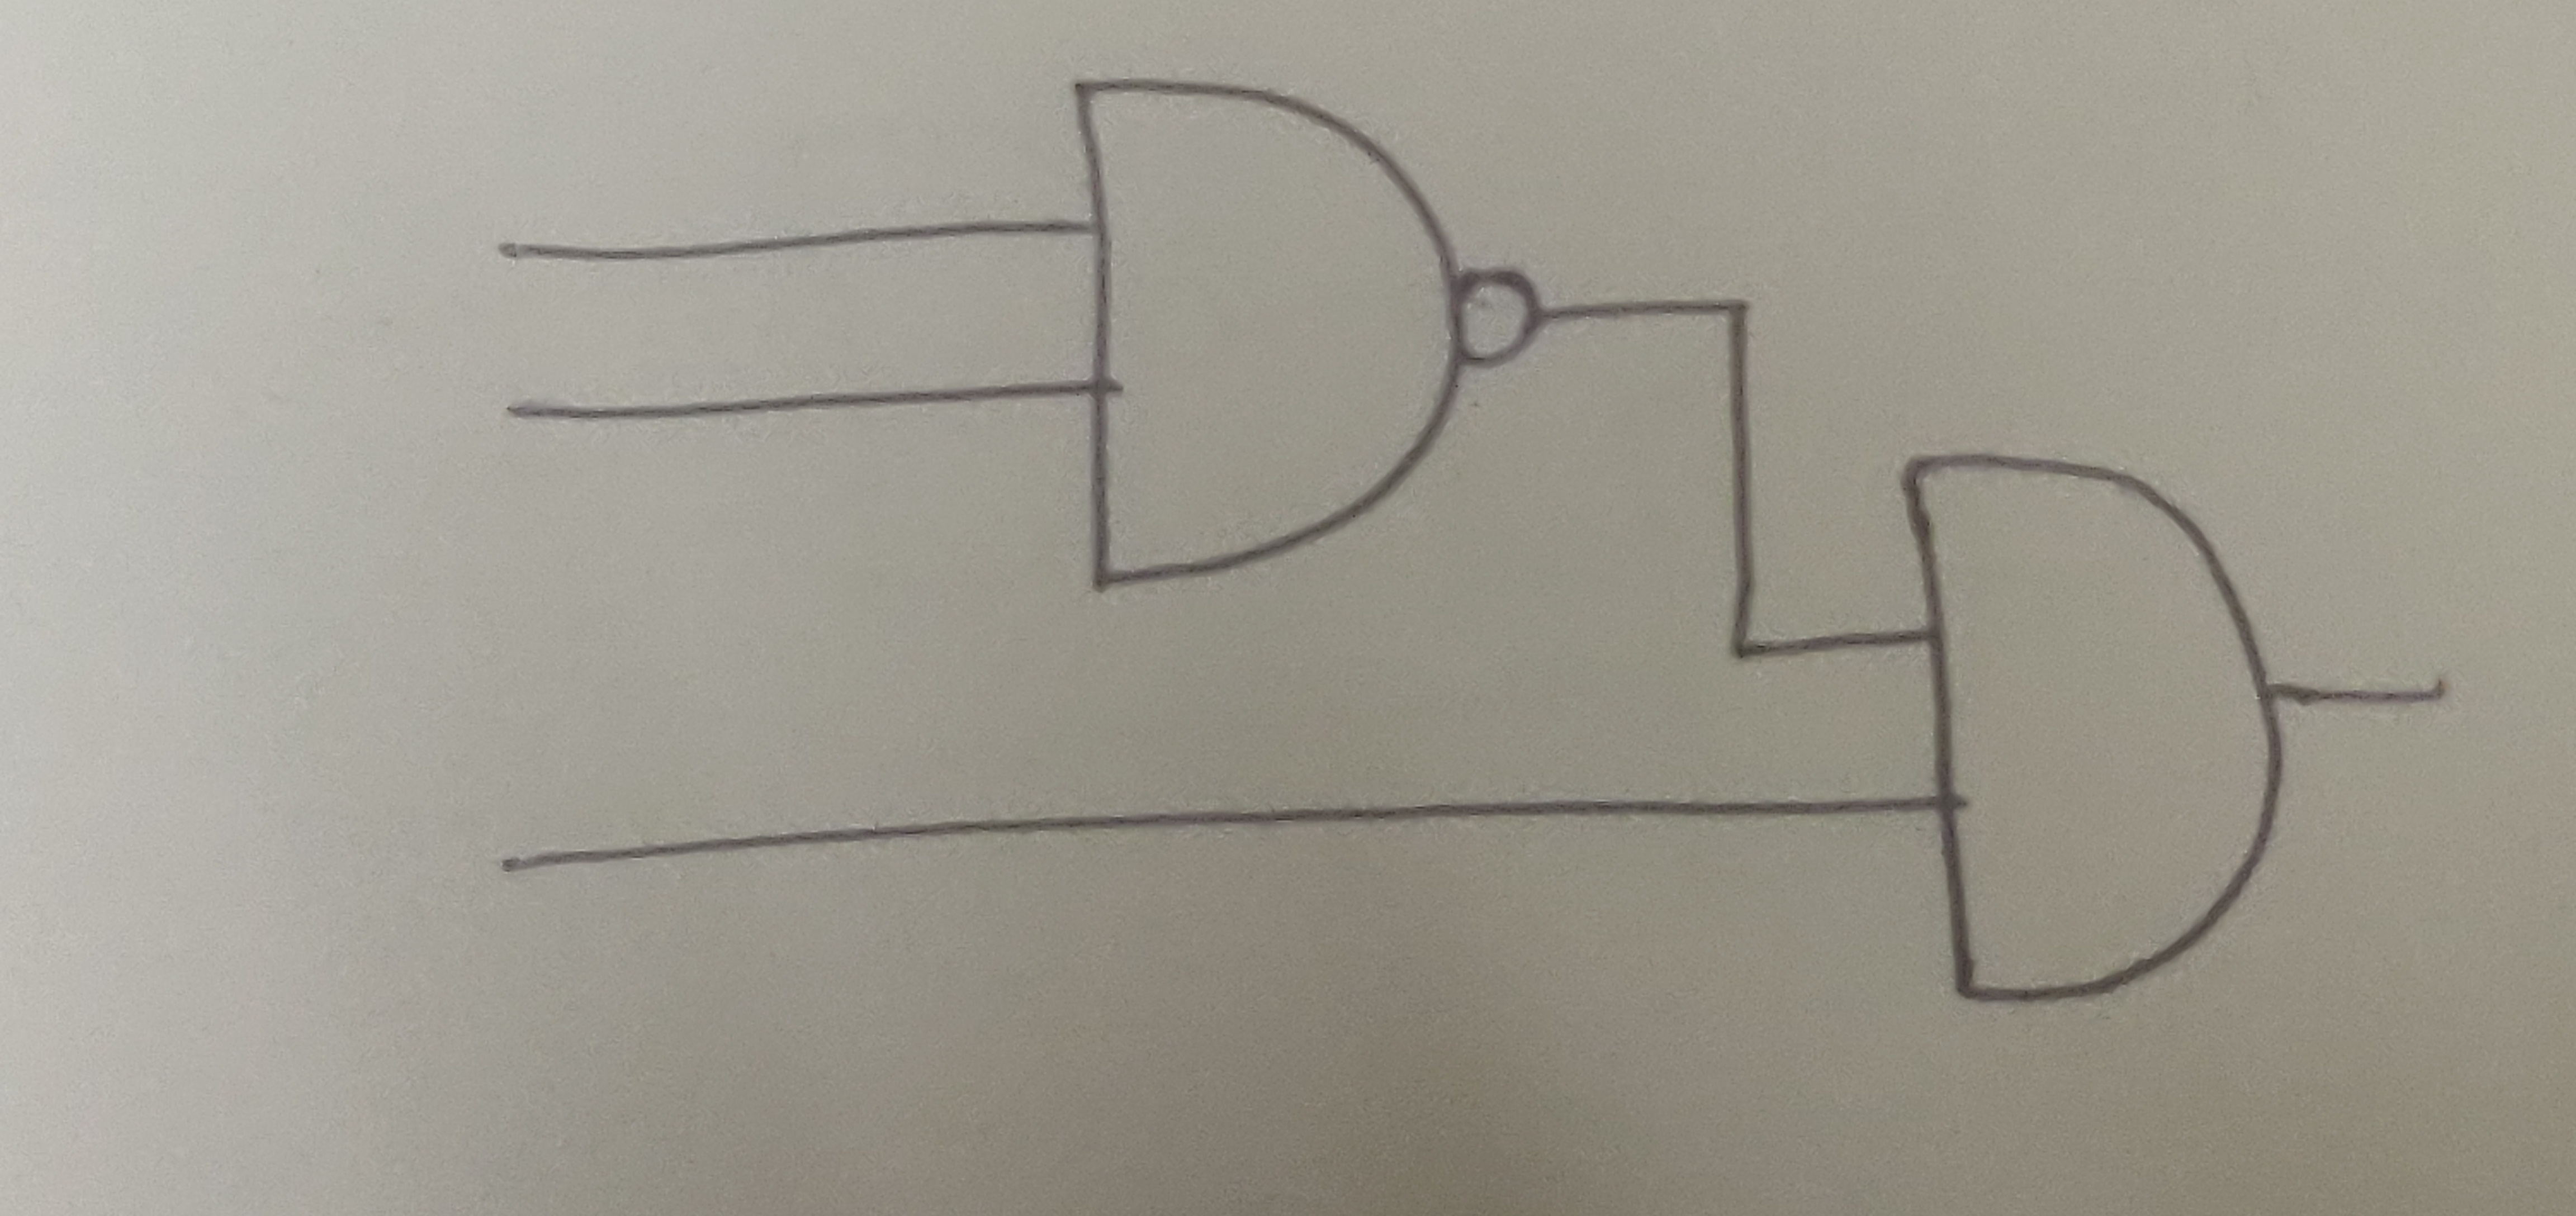and: (1896, 450, 2290, 1016), (1065, 72, 1472, 598)
not: (1446, 263, 1548, 375)
